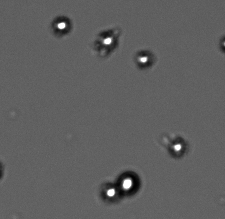Living Cell: (118, 166, 143, 198), (93, 28, 120, 56), (49, 14, 74, 36), (167, 135, 189, 159), (134, 47, 155, 70), (98, 180, 119, 202)
